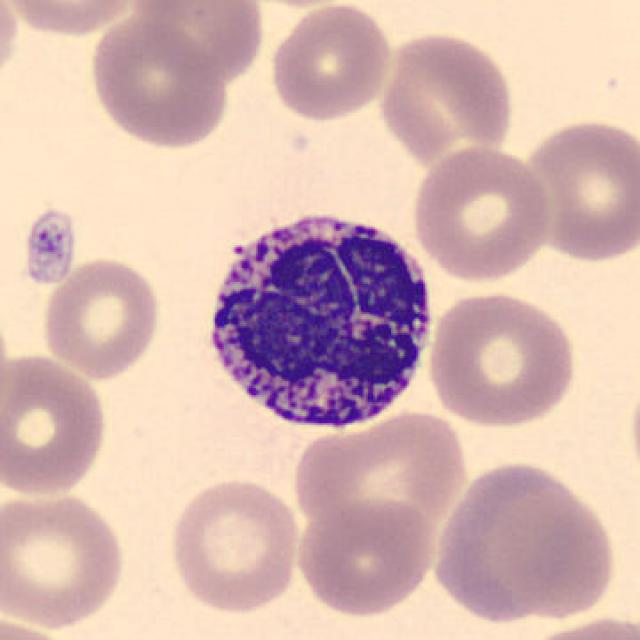Basophil: (194, 197, 442, 441)
Platelets: (18, 206, 80, 289)
RBC: (427, 455, 613, 626), (286, 407, 469, 550), (425, 288, 579, 430), (409, 141, 555, 284), (85, 14, 231, 152), (165, 472, 304, 616), (375, 28, 517, 164), (0, 483, 130, 630), (292, 494, 439, 620), (516, 113, 638, 264), (0, 349, 112, 501), (39, 252, 164, 381), (266, 2, 394, 123), (133, 0, 267, 85), (0, 0, 139, 39), (510, 612, 638, 640), (0, 0, 23, 95), (0, 612, 76, 640), (626, 365, 640, 504)
